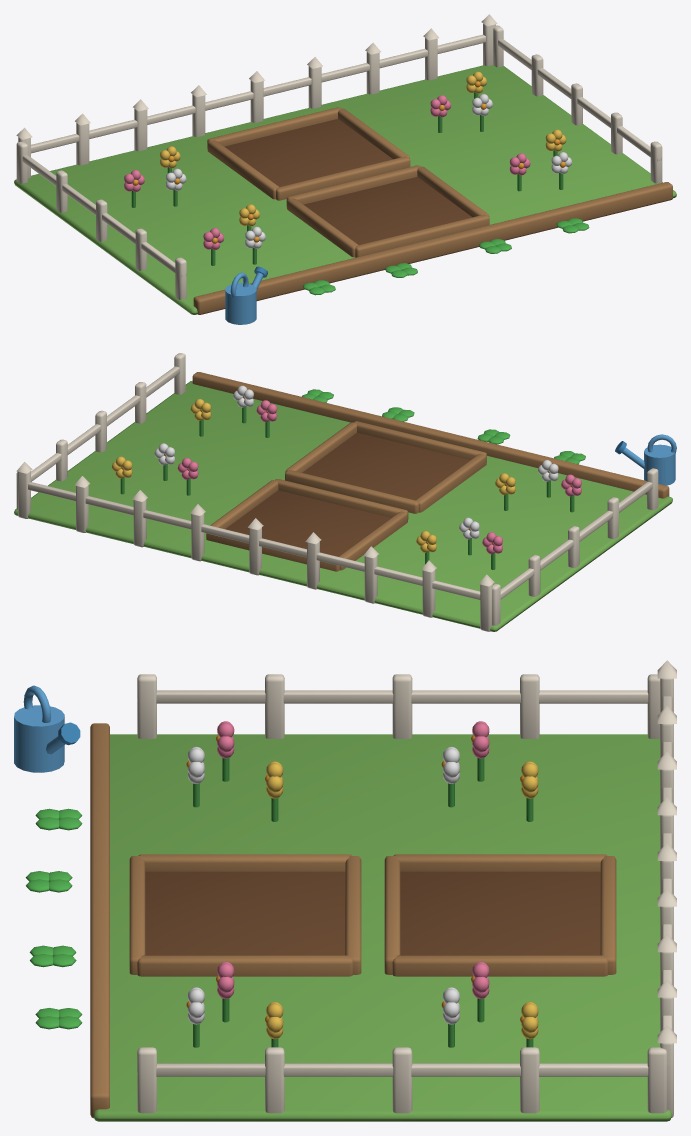
The model's file is garden1.glb.
The picture shows the model from 3 angles, top to bottom: view 1: azimuth 30°, elevation 25°; view 2: azimuth 150°, elevation 25°; view 3: azimuth 270°, elevation 25°; orthographic projection. The views are drawn at different scales.
Parts seen in each view (by area): view 1: oak-fence, oak-beds, clover-patch; view 2: oak-fence, oak-beds, clover-patch; view 3: oak-fence, oak-beds, clover-patch.
Boxes of the visible parts, x1=… form: oak-fence: x1=14, y1=14, x2=676, y2=314; oak-beds: x1=207, y1=107, x2=489, y2=324; clover-patch: x1=124, y1=71, x2=589, y2=295; oak-fence: x1=14, y1=353, x2=672, y2=631; oak-beds: x1=206, y1=421, x2=676, y2=571; clover-patch: x1=111, y1=385, x2=585, y2=569; oak-fence: x1=90, y1=660, x2=676, y2=1121; oak-beds: x1=14, y1=685, x2=616, y2=976; clover-patch: x1=25, y1=721, x2=538, y2=1047.
Bounding box in the file's own units: 4.6 × 0.5099 × 3.38.
